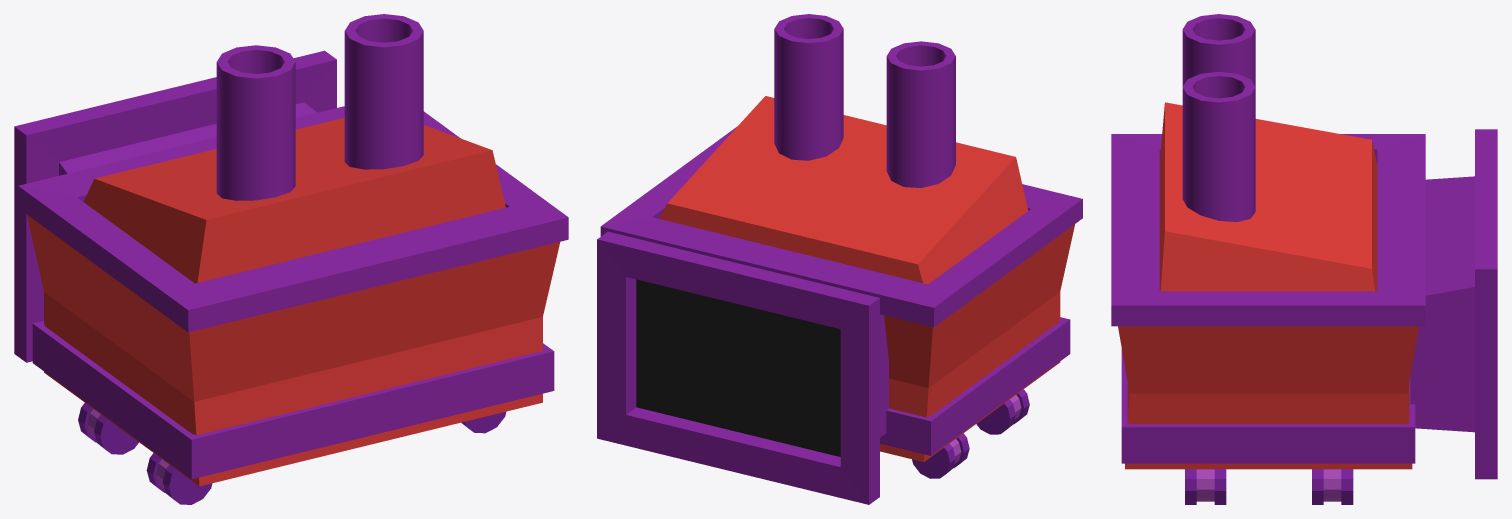
The model's file is Hay Machine Red.fbx.
3 views of the same model, side by side, from view 1: azimuth 30°, elevation 25°; view 2: azimuth 150°, elevation 25°; view 3: azimuth 270°, elevation 25° (orthographic). The views are drawn at different scales.
Parts seen in each view (by area): view 1: Hay Machine 3; view 2: Hay Machine 3; view 3: Hay Machine 3.
Part boxes in pixels (x1,y1,x2,y2): Hay Machine 3: [14, 14, 568, 504]; Hay Machine 3: [597, 14, 1082, 504]; Hay Machine 3: [1111, 14, 1497, 504].
Bounding box in the file's own units: 5.82 × 5.98 × 5.53.
